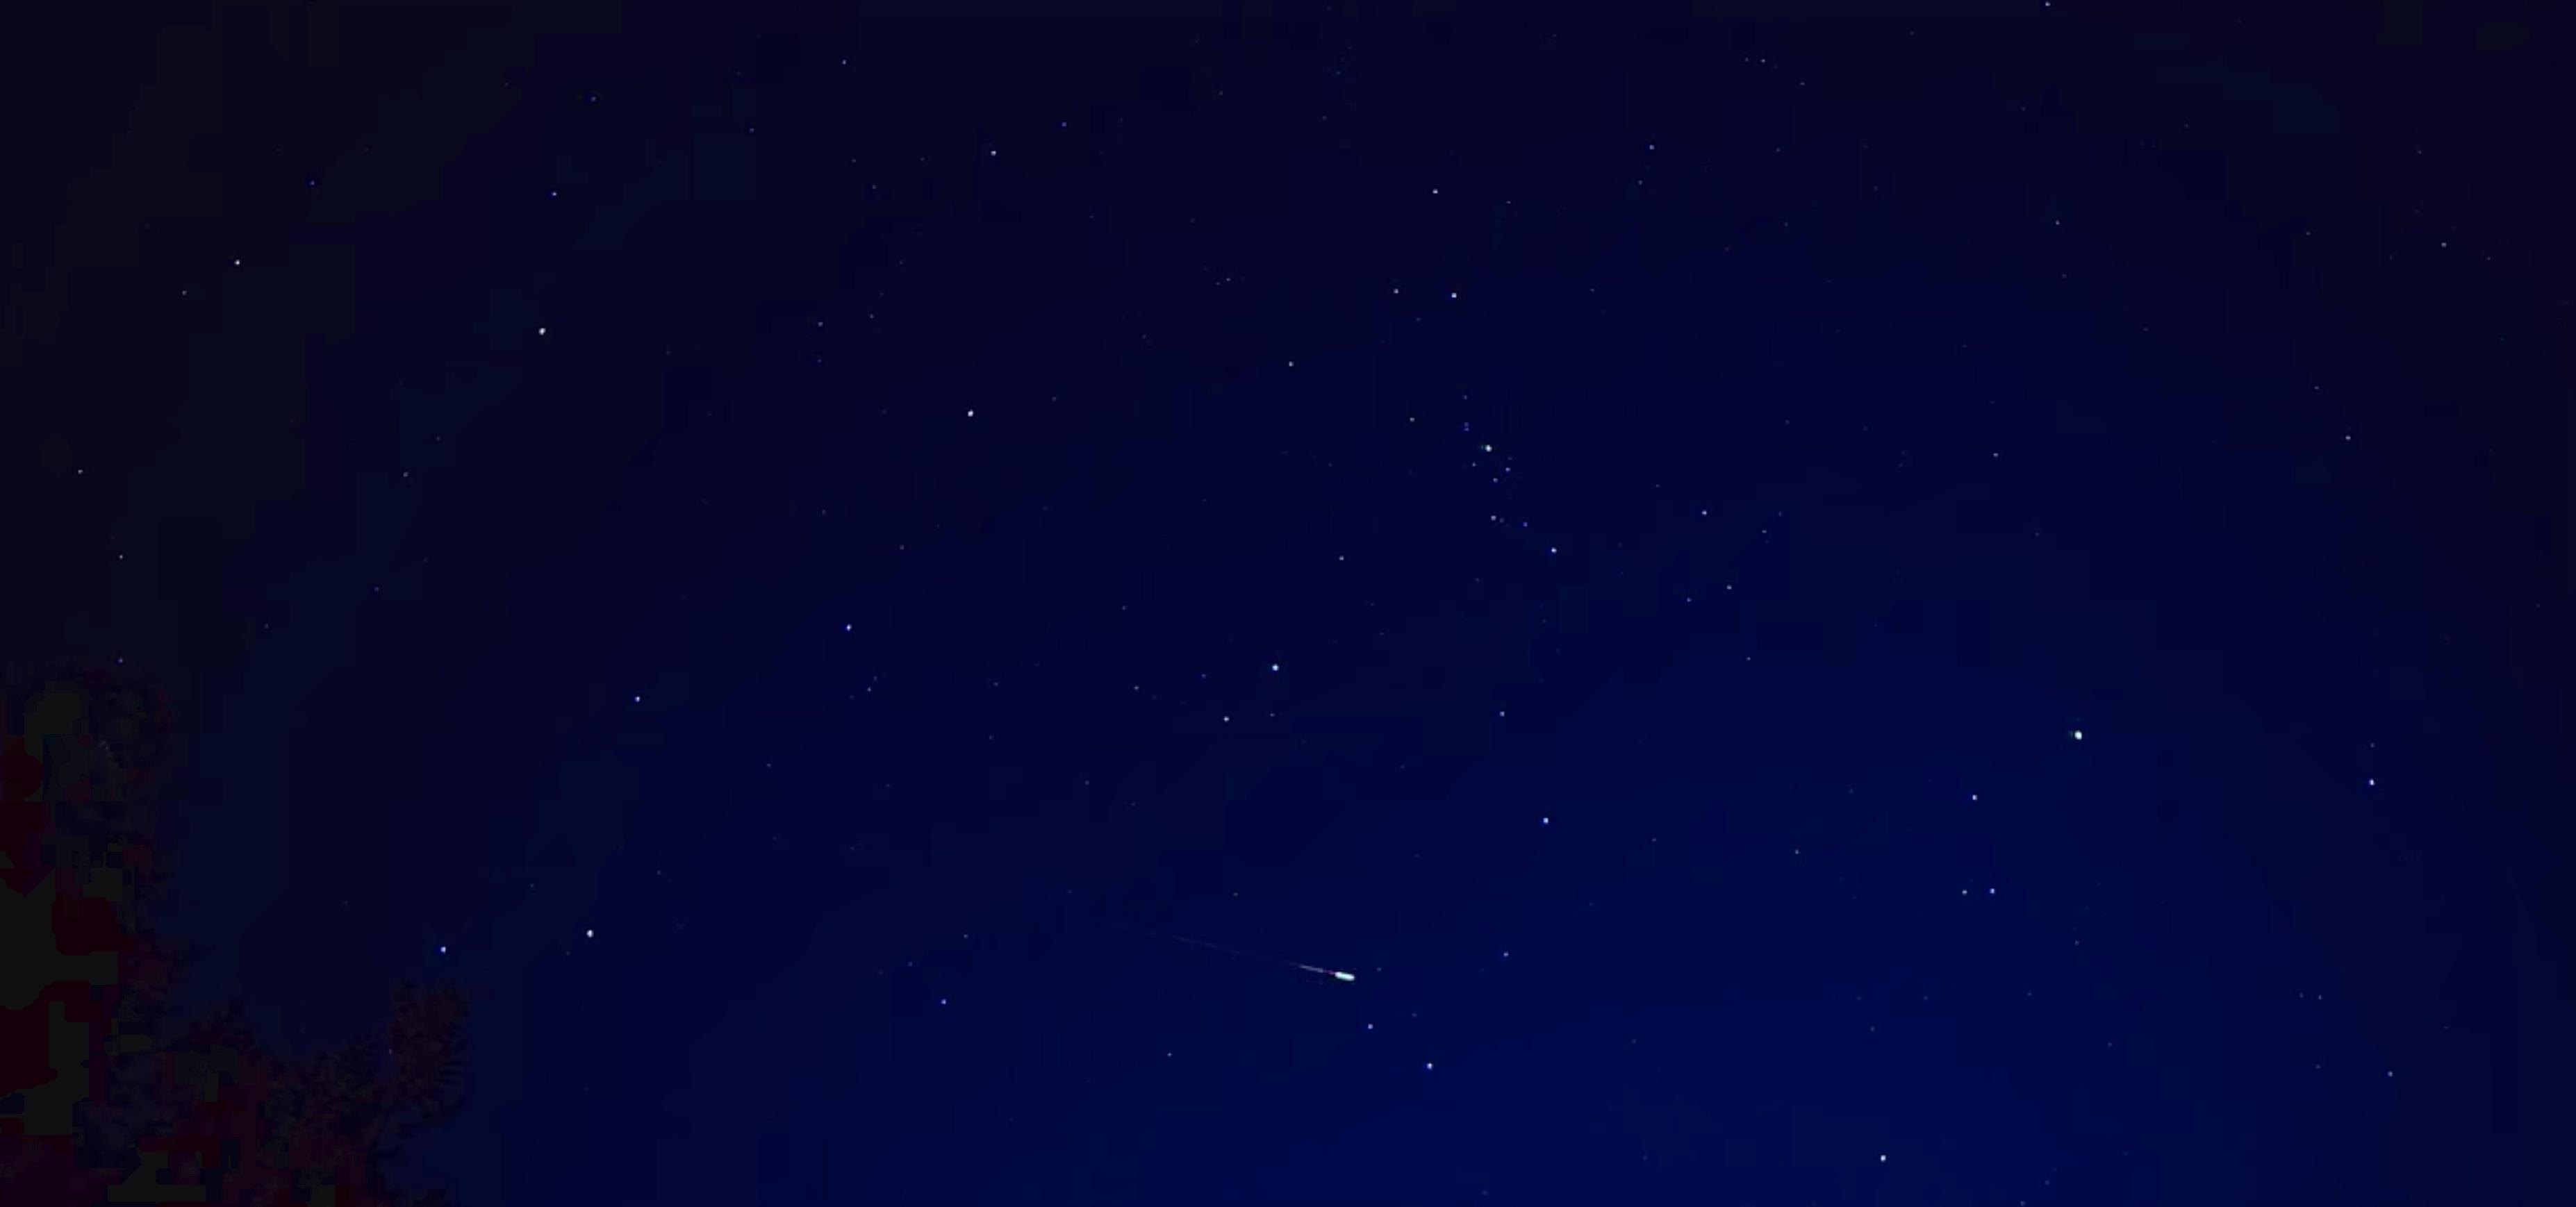meteorite: (1114, 911, 1400, 1000)
